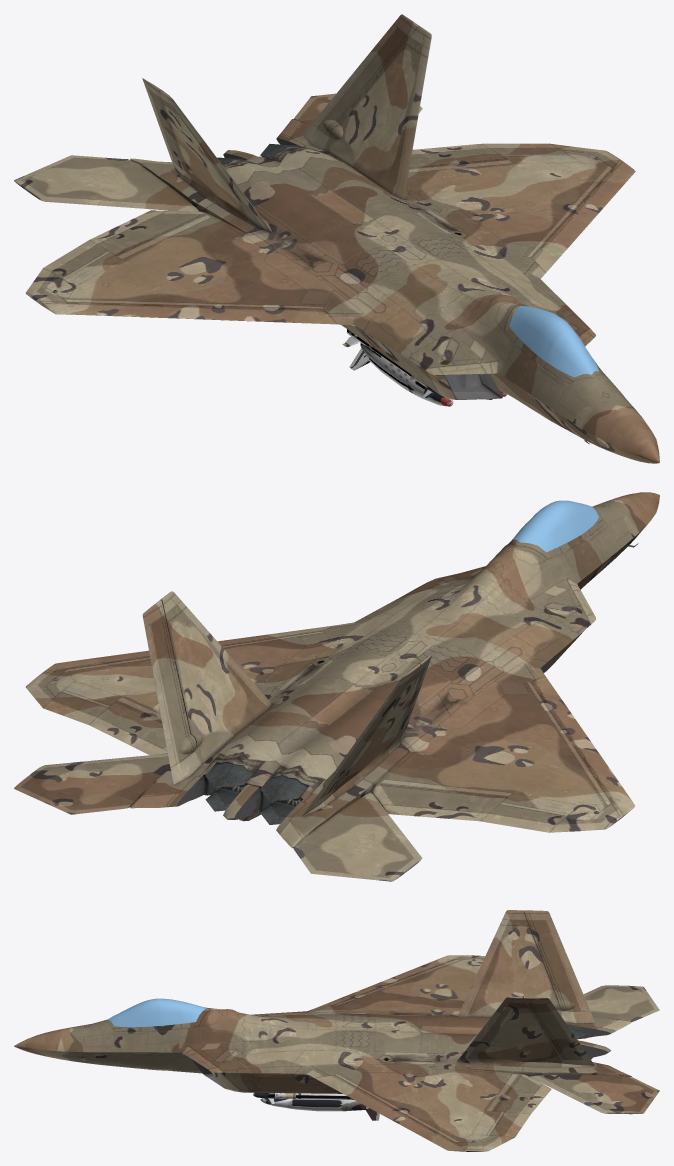
Rendered from lockheed-martin-f-22-raptor.glb.
3 renders of one model, top to bottom at view 1: azimuth 30°, elevation 25°; view 2: azimuth 150°, elevation 25°; view 3: azimuth 270°, elevation 25°, orthographic. The views are drawn at different scales.
Visible parts, largest first — view 1: DrawCall_0021_ad307e3c.dds_0, DrawCall_0030_Mat_0, DrawCall_0031_fd2239d2.dds_0; view 2: DrawCall_0021_ad307e3c.dds_0, DrawCall_0030_Mat_0; view 3: DrawCall_0021_ad307e3c.dds_0, DrawCall_0030_Mat_0, DrawCall_0031_fd2239d2.dds_0.
Part boxes in pixels (x1=…): DrawCall_0021_ad307e3c.dds_0: x1=14, y1=14, x2=659, y2=463; DrawCall_0030_Mat_0: x1=509, y1=306, x2=598, y2=377; DrawCall_0031_fd2239d2.dds_0: x1=342, y1=329, x2=507, y2=406; DrawCall_0021_ad307e3c.dds_0: x1=14, y1=492, x2=659, y2=881; DrawCall_0030_Mat_0: x1=512, y1=500, x2=598, y2=552; DrawCall_0021_ad307e3c.dds_0: x1=14, y1=910, x2=659, y2=1151; DrawCall_0030_Mat_0: x1=107, y1=998, x2=205, y2=1027; DrawCall_0031_fd2239d2.dds_0: x1=253, y1=1092, x2=379, y2=1120.
Size of the model in its own units: 14.82 by 5.41 by 20.69.
Materials: 3 (2 with a texture image).
